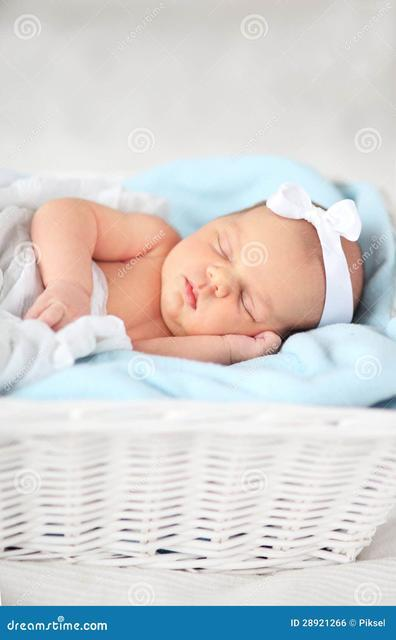sleep: (159, 202, 323, 343)
